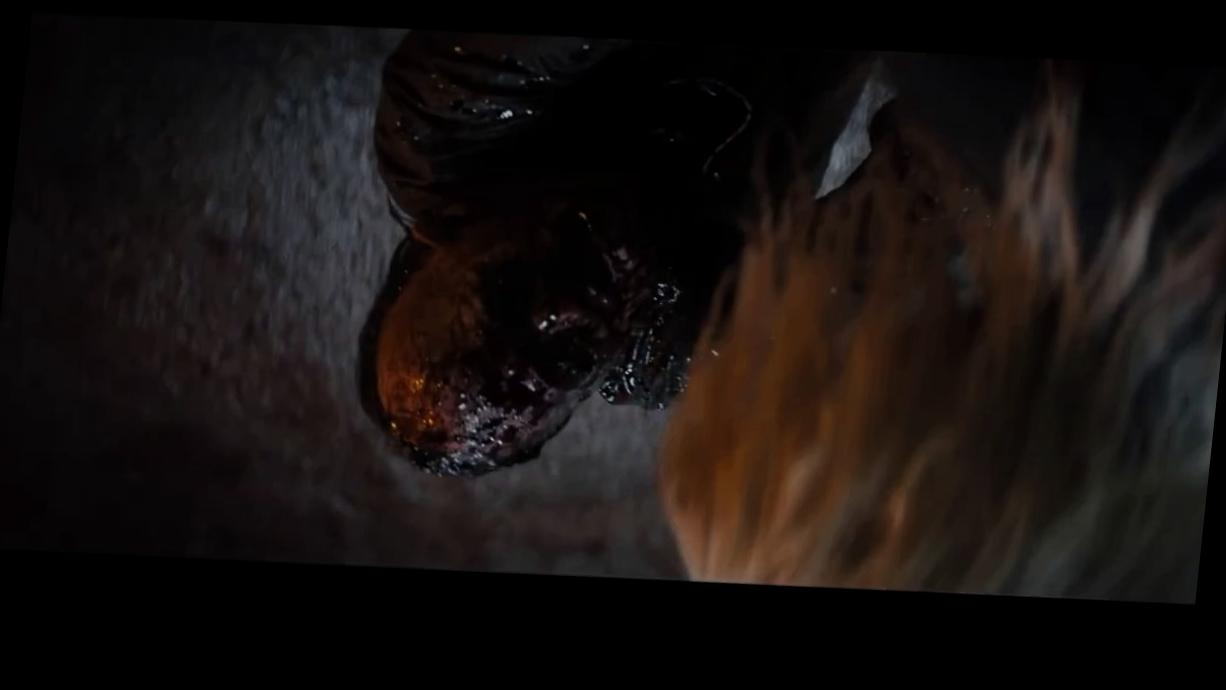Fire: (354, 33, 859, 483)
